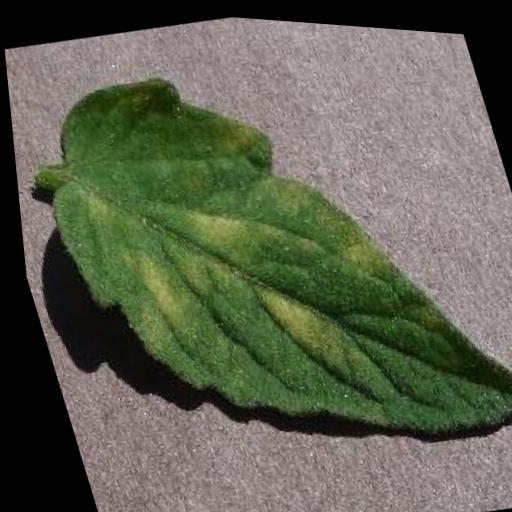Leaf Mold: (4, 6, 512, 504)
